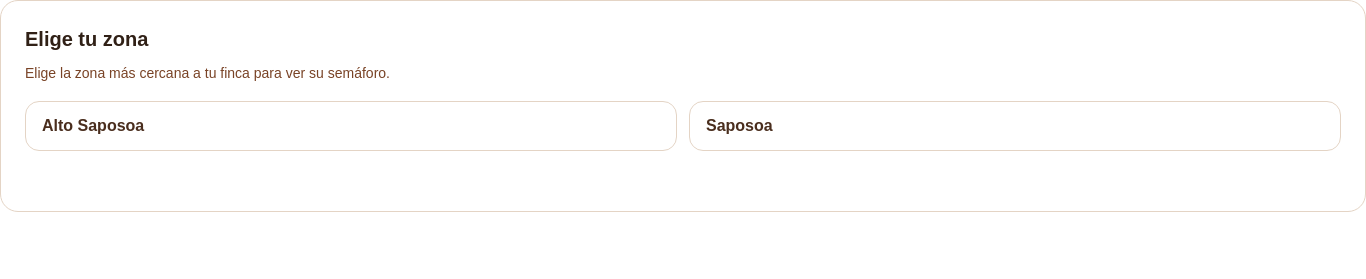
ZonaSelector › si la zona ya no está disponible (422) muestra el error y no refresca
The image size is (1366, 279).
Click the button "Saposoa": (739, 126) [689,101,1341,151]
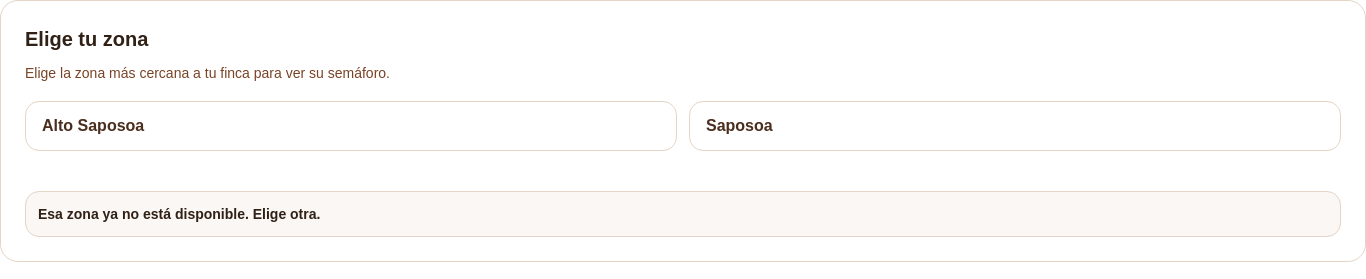
Expected: the message reads "Esa zona ya no está disponible. Elige otra.", [38,206,320,222]
